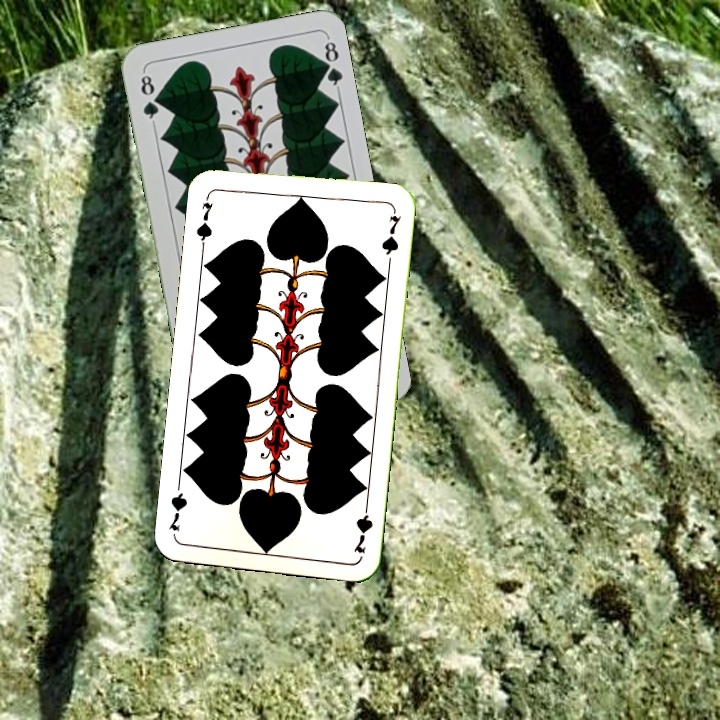G7: (349, 497, 375, 556), (192, 190, 216, 249)
G8: (136, 68, 162, 127)
